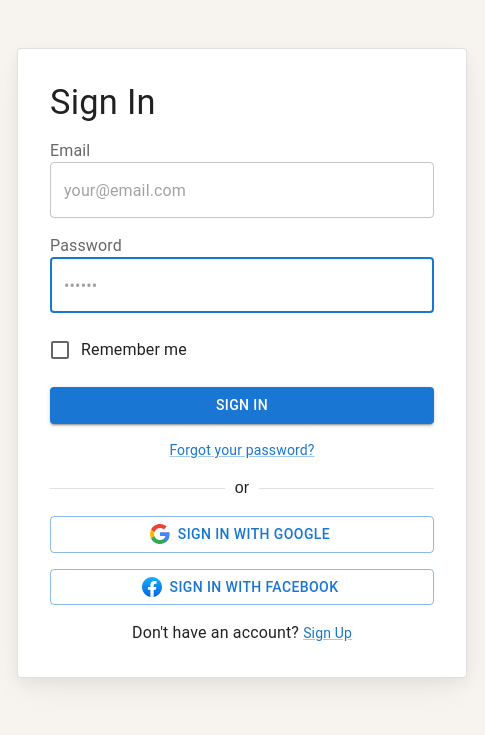
authentication form integration › renders a backend login rejection without creating a session
Type "tutor@example.com" into the field labelled "Email" at (242, 190), box x1=50 y1=162 x2=434 y2=218
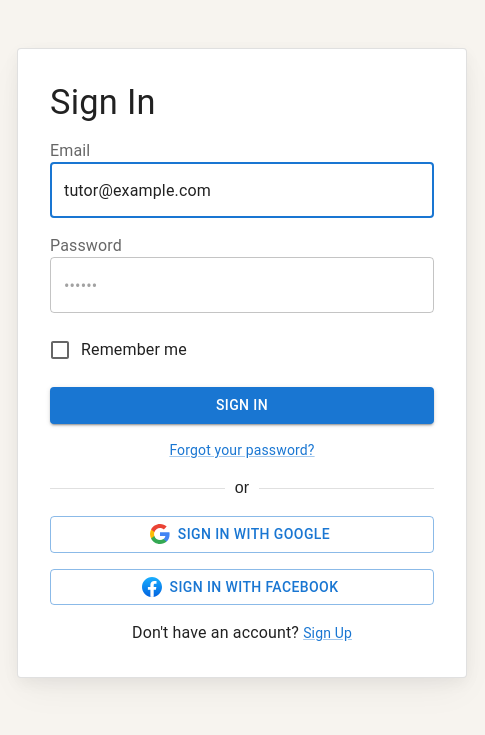
Type "wrong-password" into the password field labelled "Password" at (242, 286), box x1=50 y1=258 x2=434 y2=314
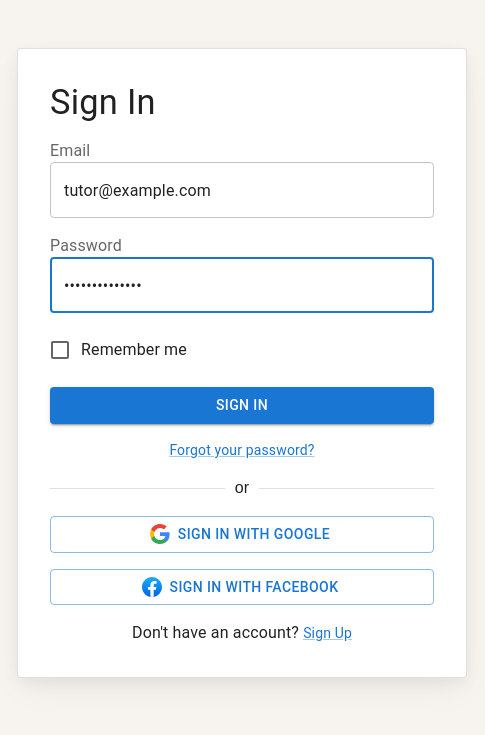
Click the button "Sign In" at (242, 406), box x1=50 y1=388 x2=434 y2=424
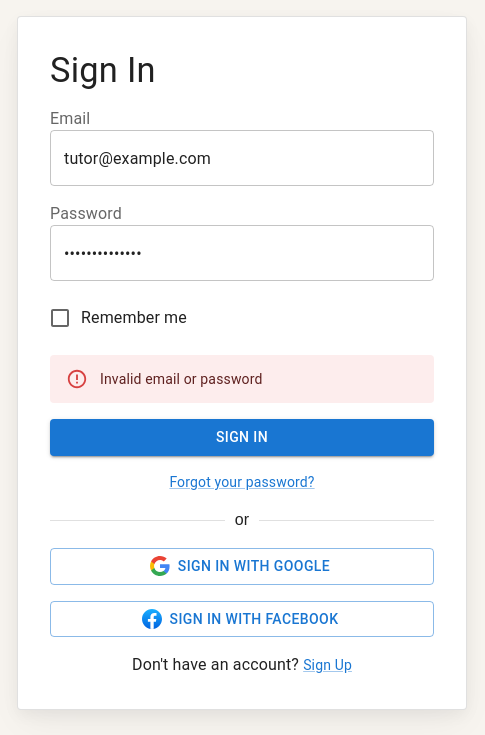
Expected: the text "Invalid email or password" is shown, x1=100 y1=372 x2=262 y2=388
